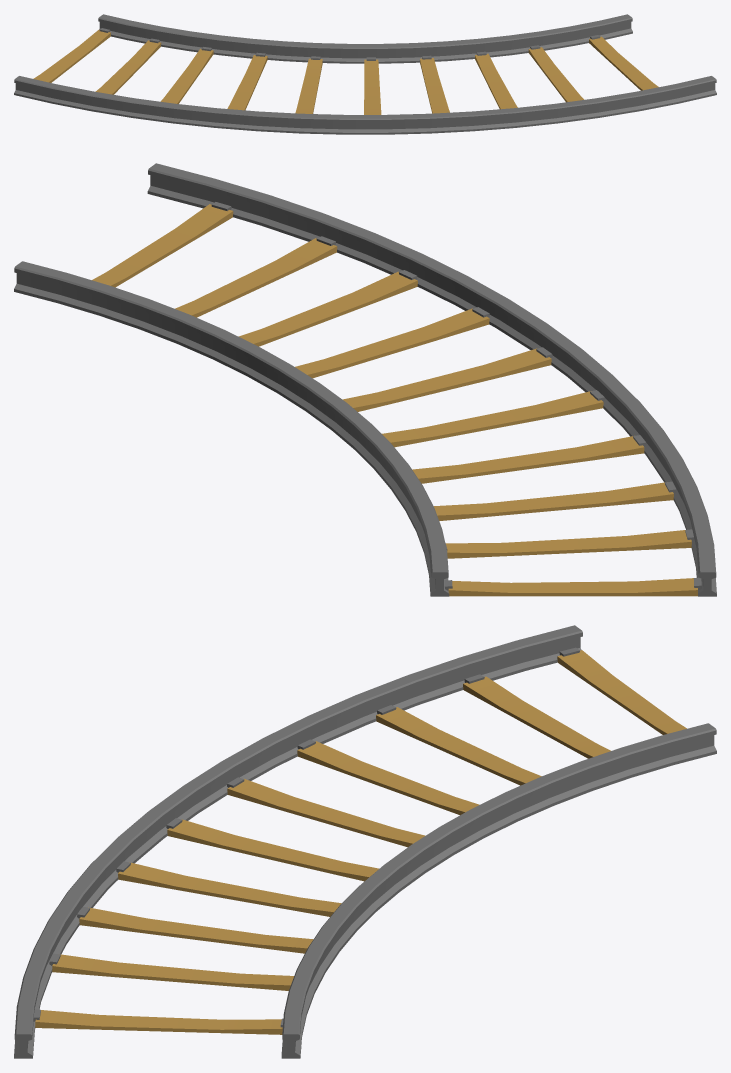
File: SM_TrainTrack45Angle.fbx
3 views of the same model, one above another, from view 1: azimuth 30°, elevation 25°; view 2: azimuth 150°, elevation 25°; view 3: azimuth 270°, elevation 25° (orthographic). The views are drawn at different scales.
Parts seen in each view (by area): view 1: SM_TrainTrack45Angle; view 2: SM_TrainTrack45Angle; view 3: SM_TrainTrack45Angle.
Boxes of the visible parts, <box> form: SM_TrainTrack45Angle: <box>14,14,716,134</box>; SM_TrainTrack45Angle: <box>14,163,716,596</box>; SM_TrainTrack45Angle: <box>14,625,716,1058</box>.
Bounding box in the file's own units: 949 × 26.51 × 688.
